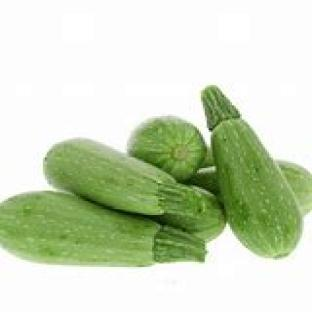Zucchini: (201, 87, 302, 258), (45, 139, 224, 232), (0, 191, 204, 266), (127, 117, 206, 182), (156, 188, 226, 240), (277, 162, 311, 214), (188, 167, 222, 201), (201, 146, 214, 168)
